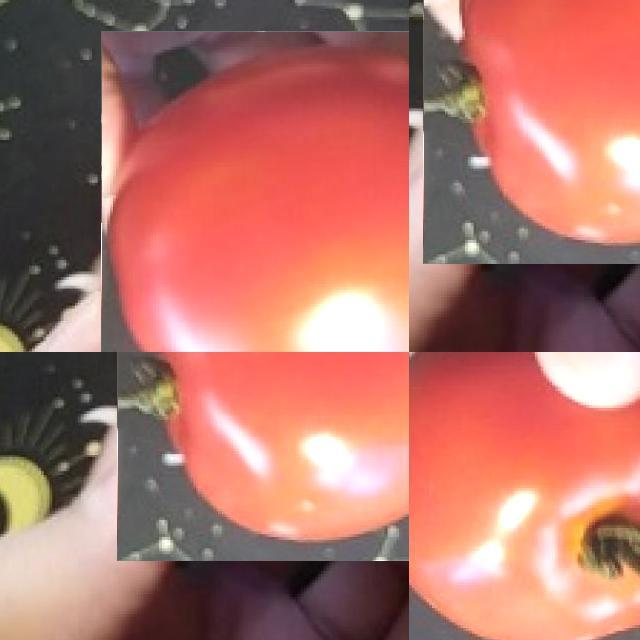Fresh Tomato: (101, 31, 409, 352), (409, 352, 640, 640), (117, 352, 409, 560), (423, 0, 640, 263)
